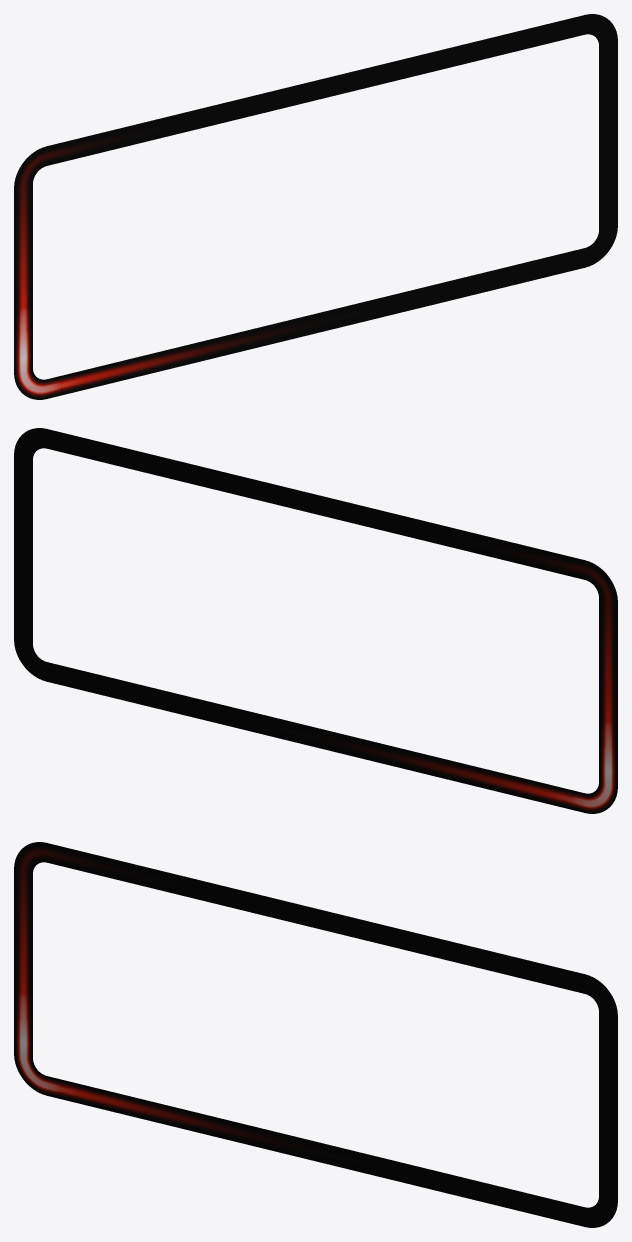
Rendered from ui_eff_0094_biankuang1.FBX.
The picture shows the model from 3 angles, top to bottom: view 1: azimuth 30°, elevation 25°; view 2: azimuth 150°, elevation 25°; view 3: azimuth 330°, elevation 25°; orthographic projection.
Parts seen in each view (by area): view 1: ui_eff_0094_biankuang1; view 2: ui_eff_0094_biankuang1; view 3: ui_eff_0094_biankuang1.
Part boxes in pixels (<box>): ui_eff_0094_biankuang1: <box>14,14,617,399</box>; ui_eff_0094_biankuang1: <box>14,428,617,813</box>; ui_eff_0094_biankuang1: <box>14,842,617,1227</box>.
Bounding box in the file's own units: 107 × 42.68 × 3.64e-06.
Materials: 1 (1 with a texture image).
